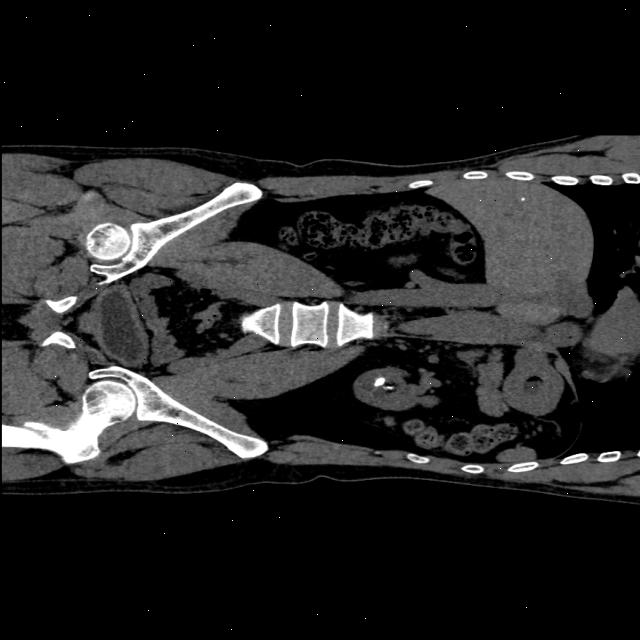kidneystone: (374, 376, 384, 388)
